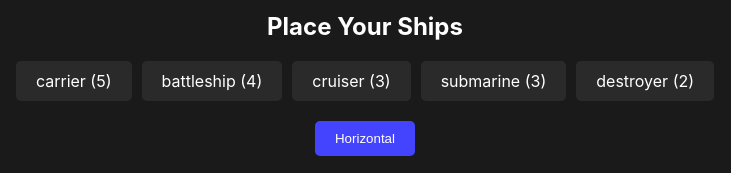
ShipPlacement Component › handles orientation toggle
The width and height of the screenshot is (731, 173).
Click the button "Horizontal".
click(365, 138)  # box top-left (315, 121), bottom-right (415, 156)
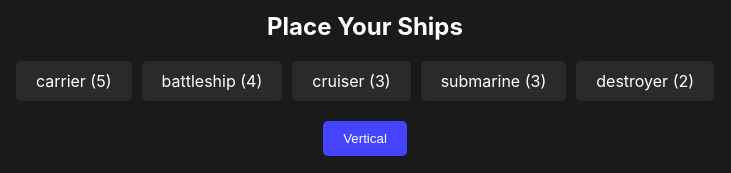
Expected: the button "Horizontal" reads "Vertical", top-left (323, 121), bottom-right (407, 156)
